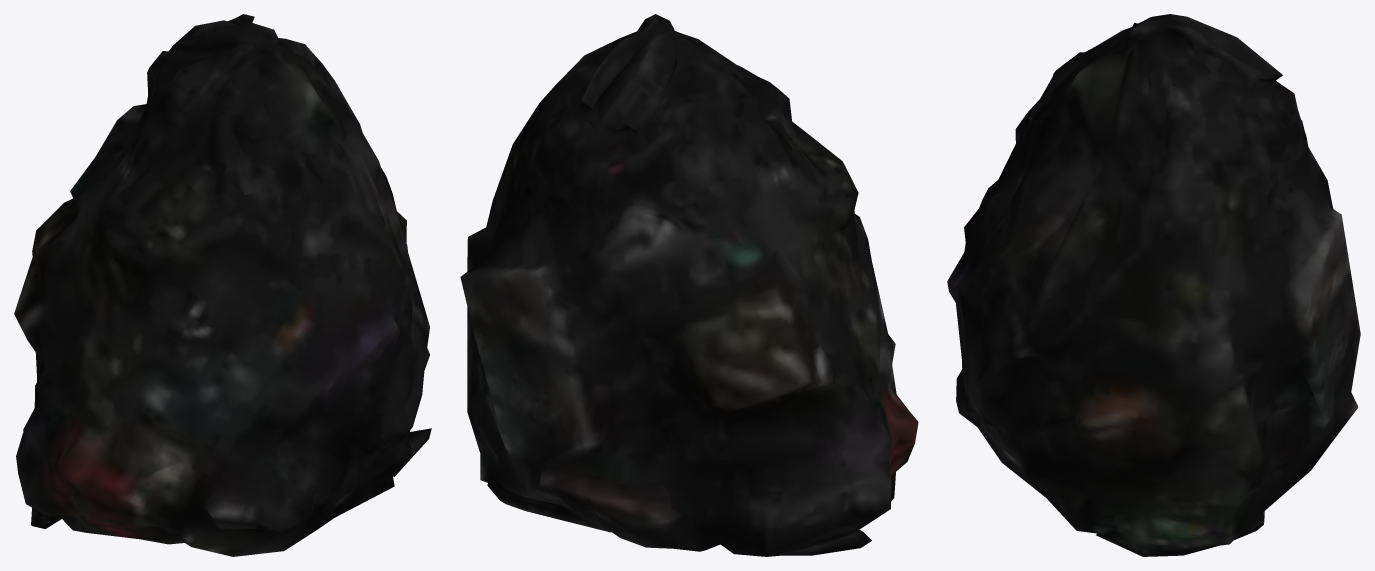
The model's file is trashbag.glb.
3 views of the same model, side by side, from view 1: azimuth 30°, elevation 25°; view 2: azimuth 150°, elevation 25°; view 3: azimuth 270°, elevation 25° (orthographic). The views are drawn at different scales.
Parts seen in each view (by area): view 1: trashbag; view 2: trashbag; view 3: trashbag.
Part boxes in pixels (box(x1,y1,x2,y2)): trashbag: box(14, 14, 431, 556); trashbag: box(460, 14, 918, 556); trashbag: box(947, 14, 1360, 556).
Size of the model in its own units: 0.5281 by 0.5725 by 0.4629.
1 material, 1 textured.
